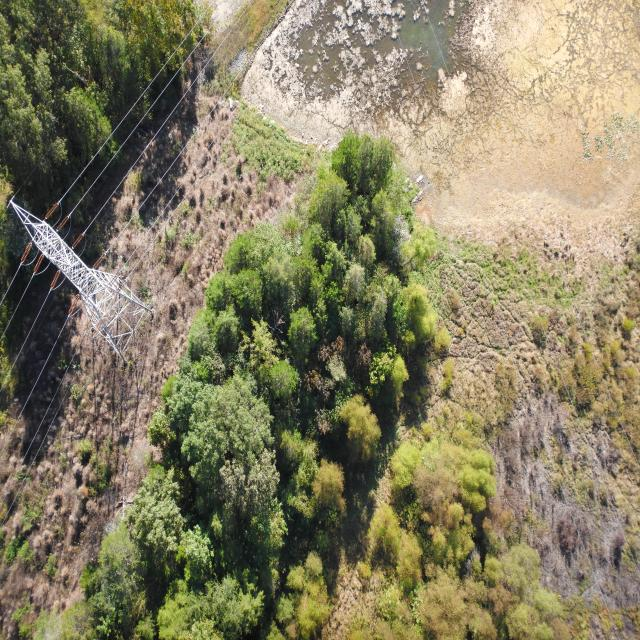Area of Interest: (89, 148, 582, 638), (0, 0, 202, 199)
